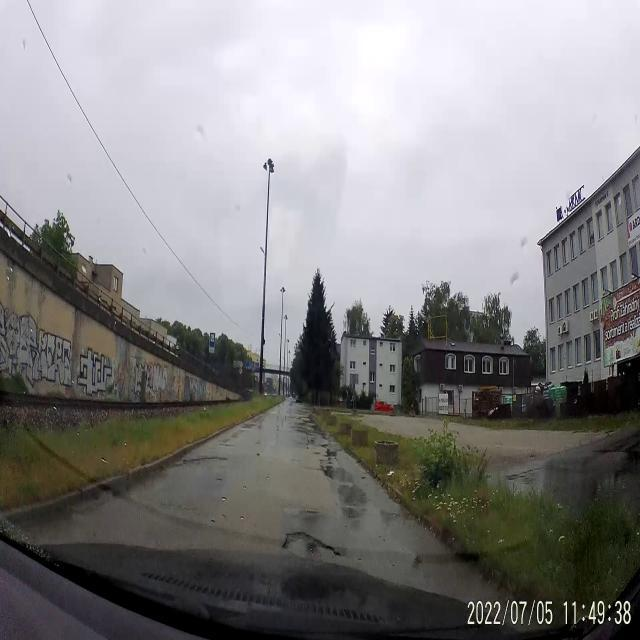Pothole: (280, 528, 346, 565), (178, 453, 230, 473), (290, 506, 326, 518), (219, 439, 235, 448)
